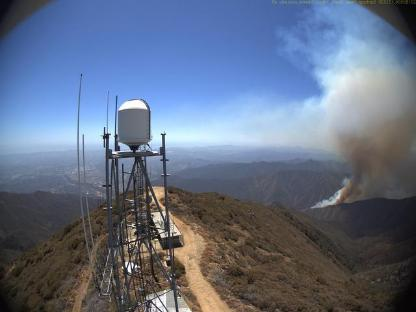smoke: (304, 41, 414, 210)
